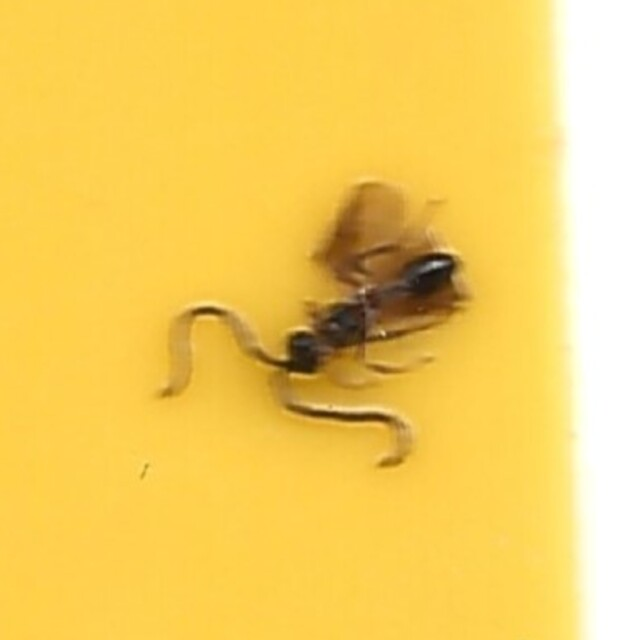Hymenoptera: (167, 180, 473, 460)
